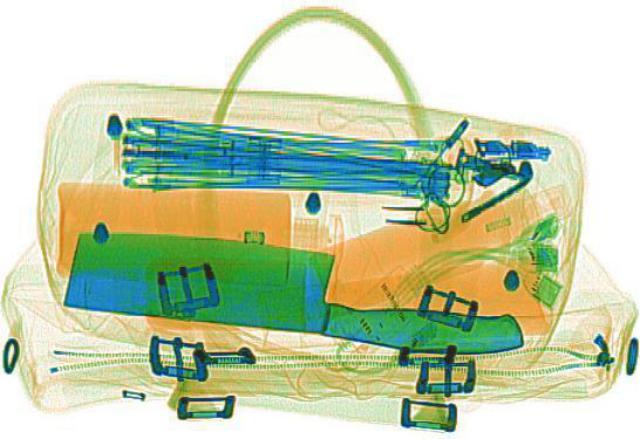Knife: (58, 225, 538, 358)
